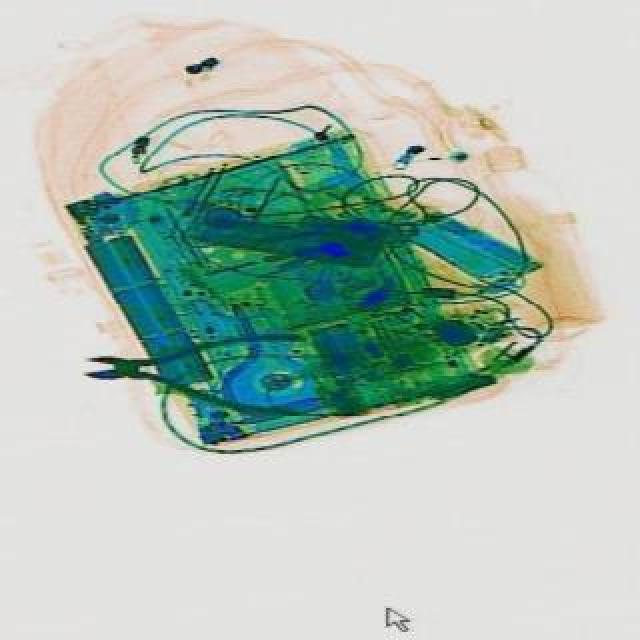wrench: (80, 326, 302, 414)
